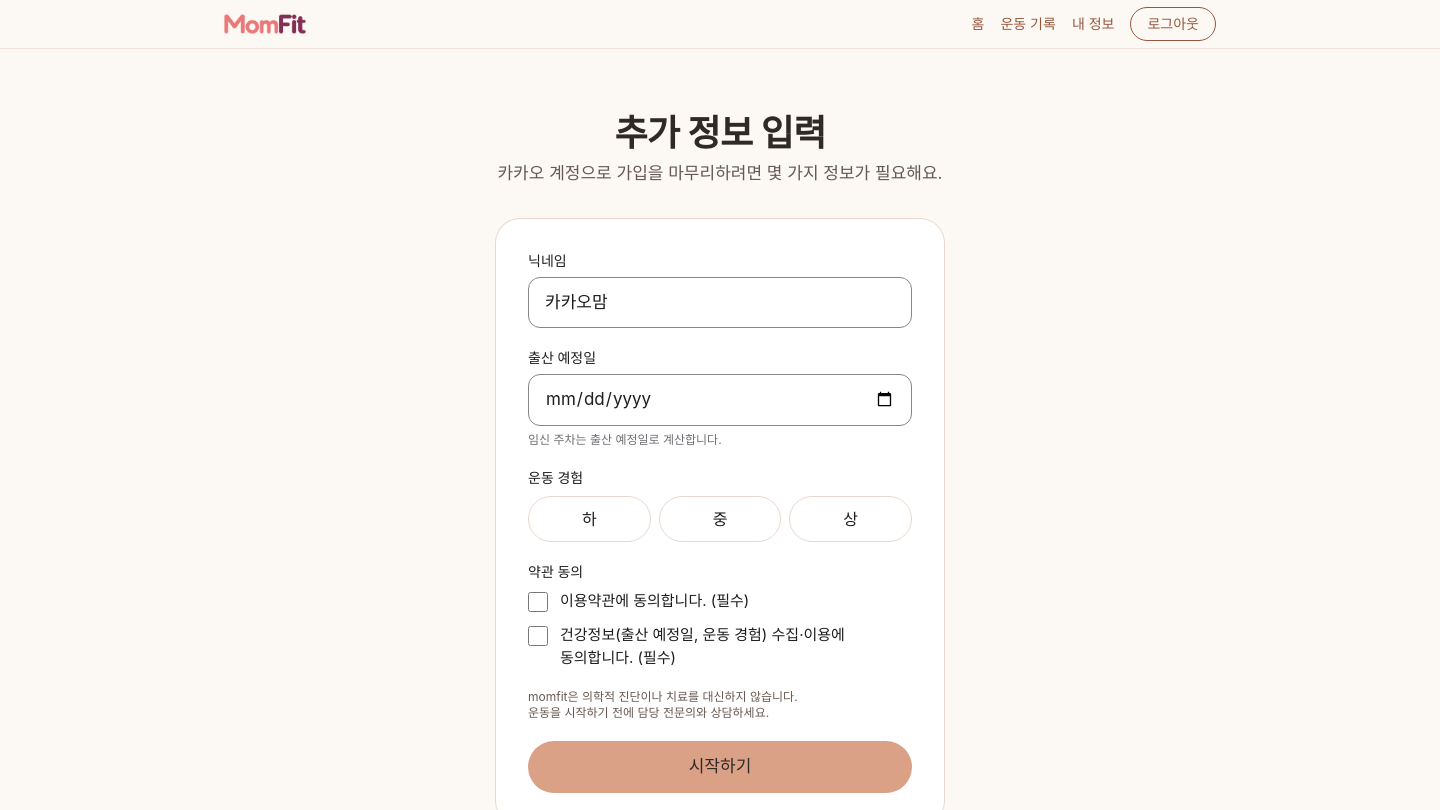
it: 온보딩 화면 › 빈 폼을 제출하면 항목별 안내를 보여주고 요청을 보내지 않는다
This screenshot has width=1440, height=810.
Step 1. Clear the field labelled "닉네임" → {"x": 720, "y": 302}, box [528,276,912,328]
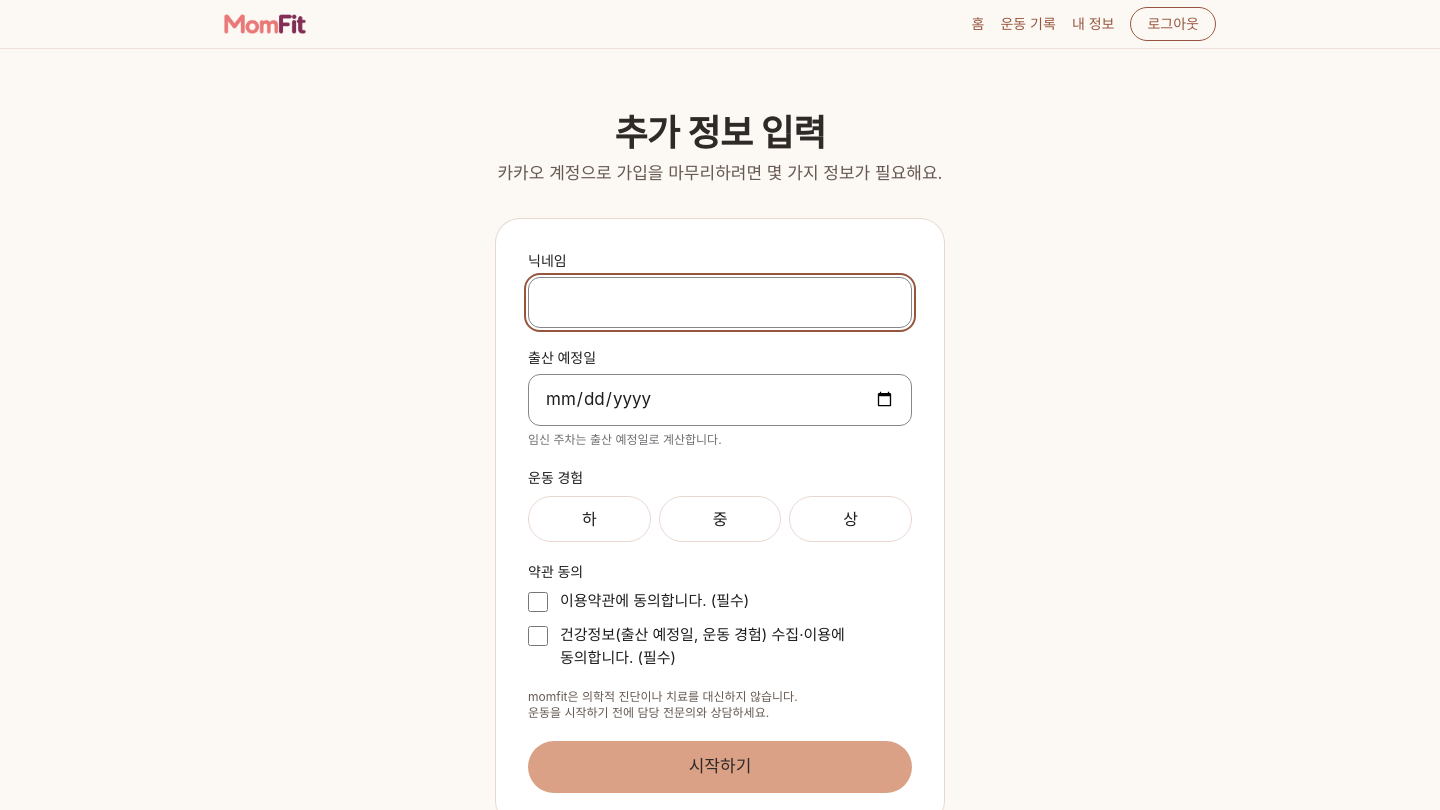
Step 2. Click the button "시작하기" → {"x": 720, "y": 767}, box [528,741,912,792]
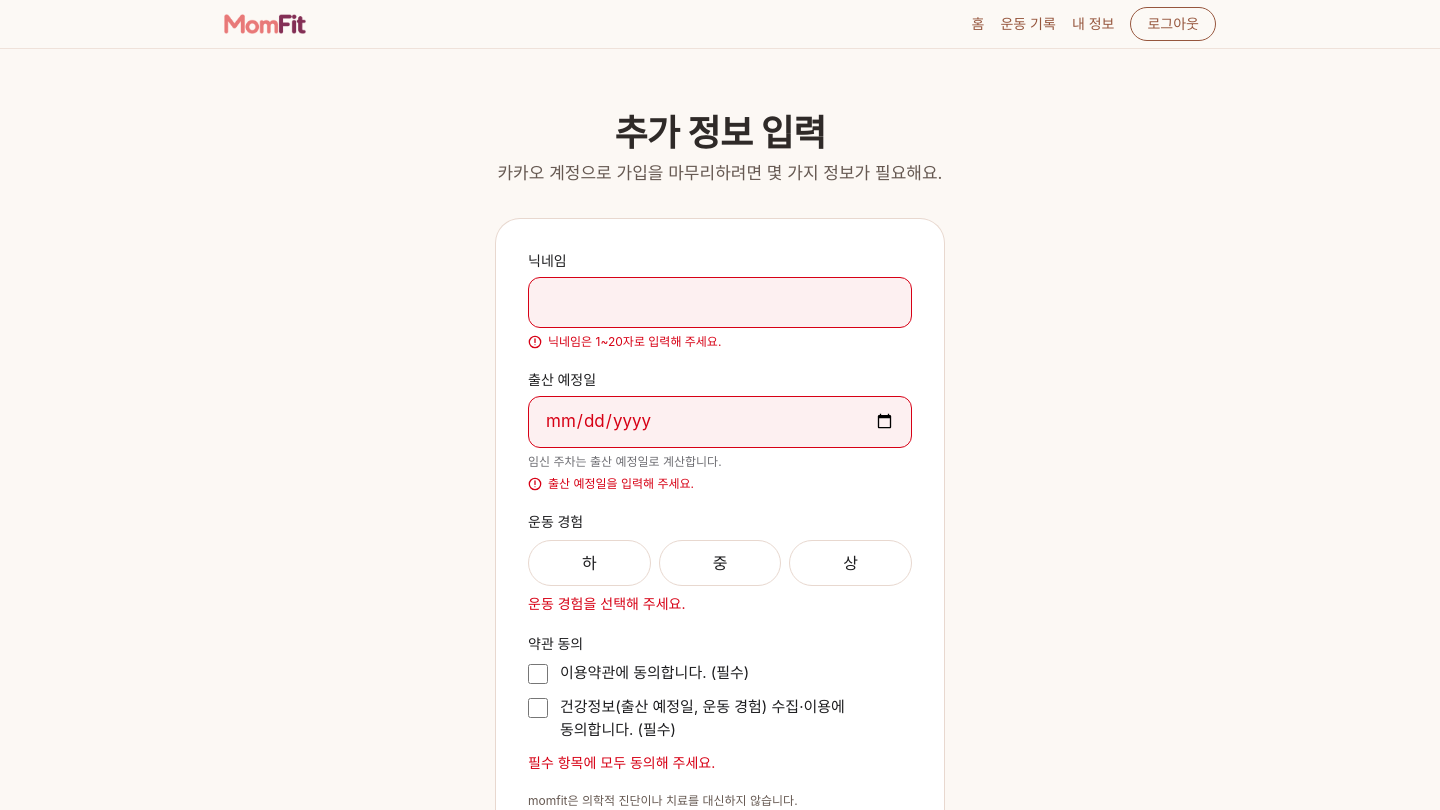
Expected: the text "닉네임은 1~20자로 입력해 주세요." is shown, [548,334,721,350]
Expected: the text "출산 예정일을 입력해 주세요." is shown, [548,476,694,492]
Expected: the text "운동 경험을 선택해 주세요." is shown, [528,594,686,612]
